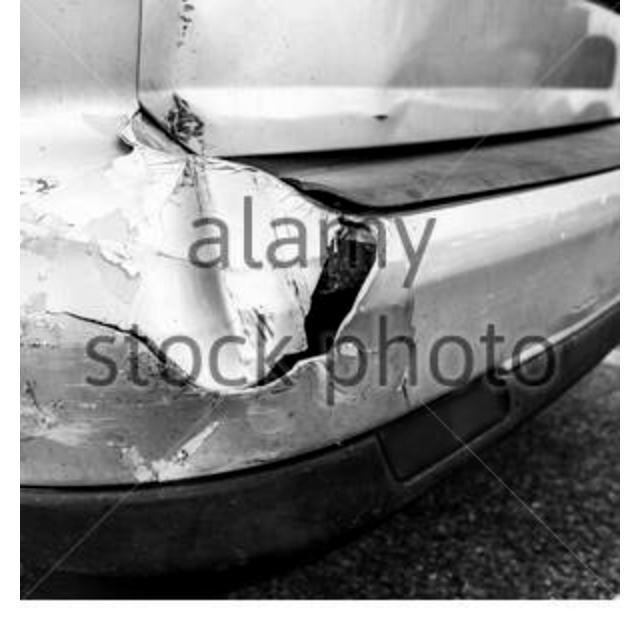rear-bumper-dent: (20, 102, 612, 532)
